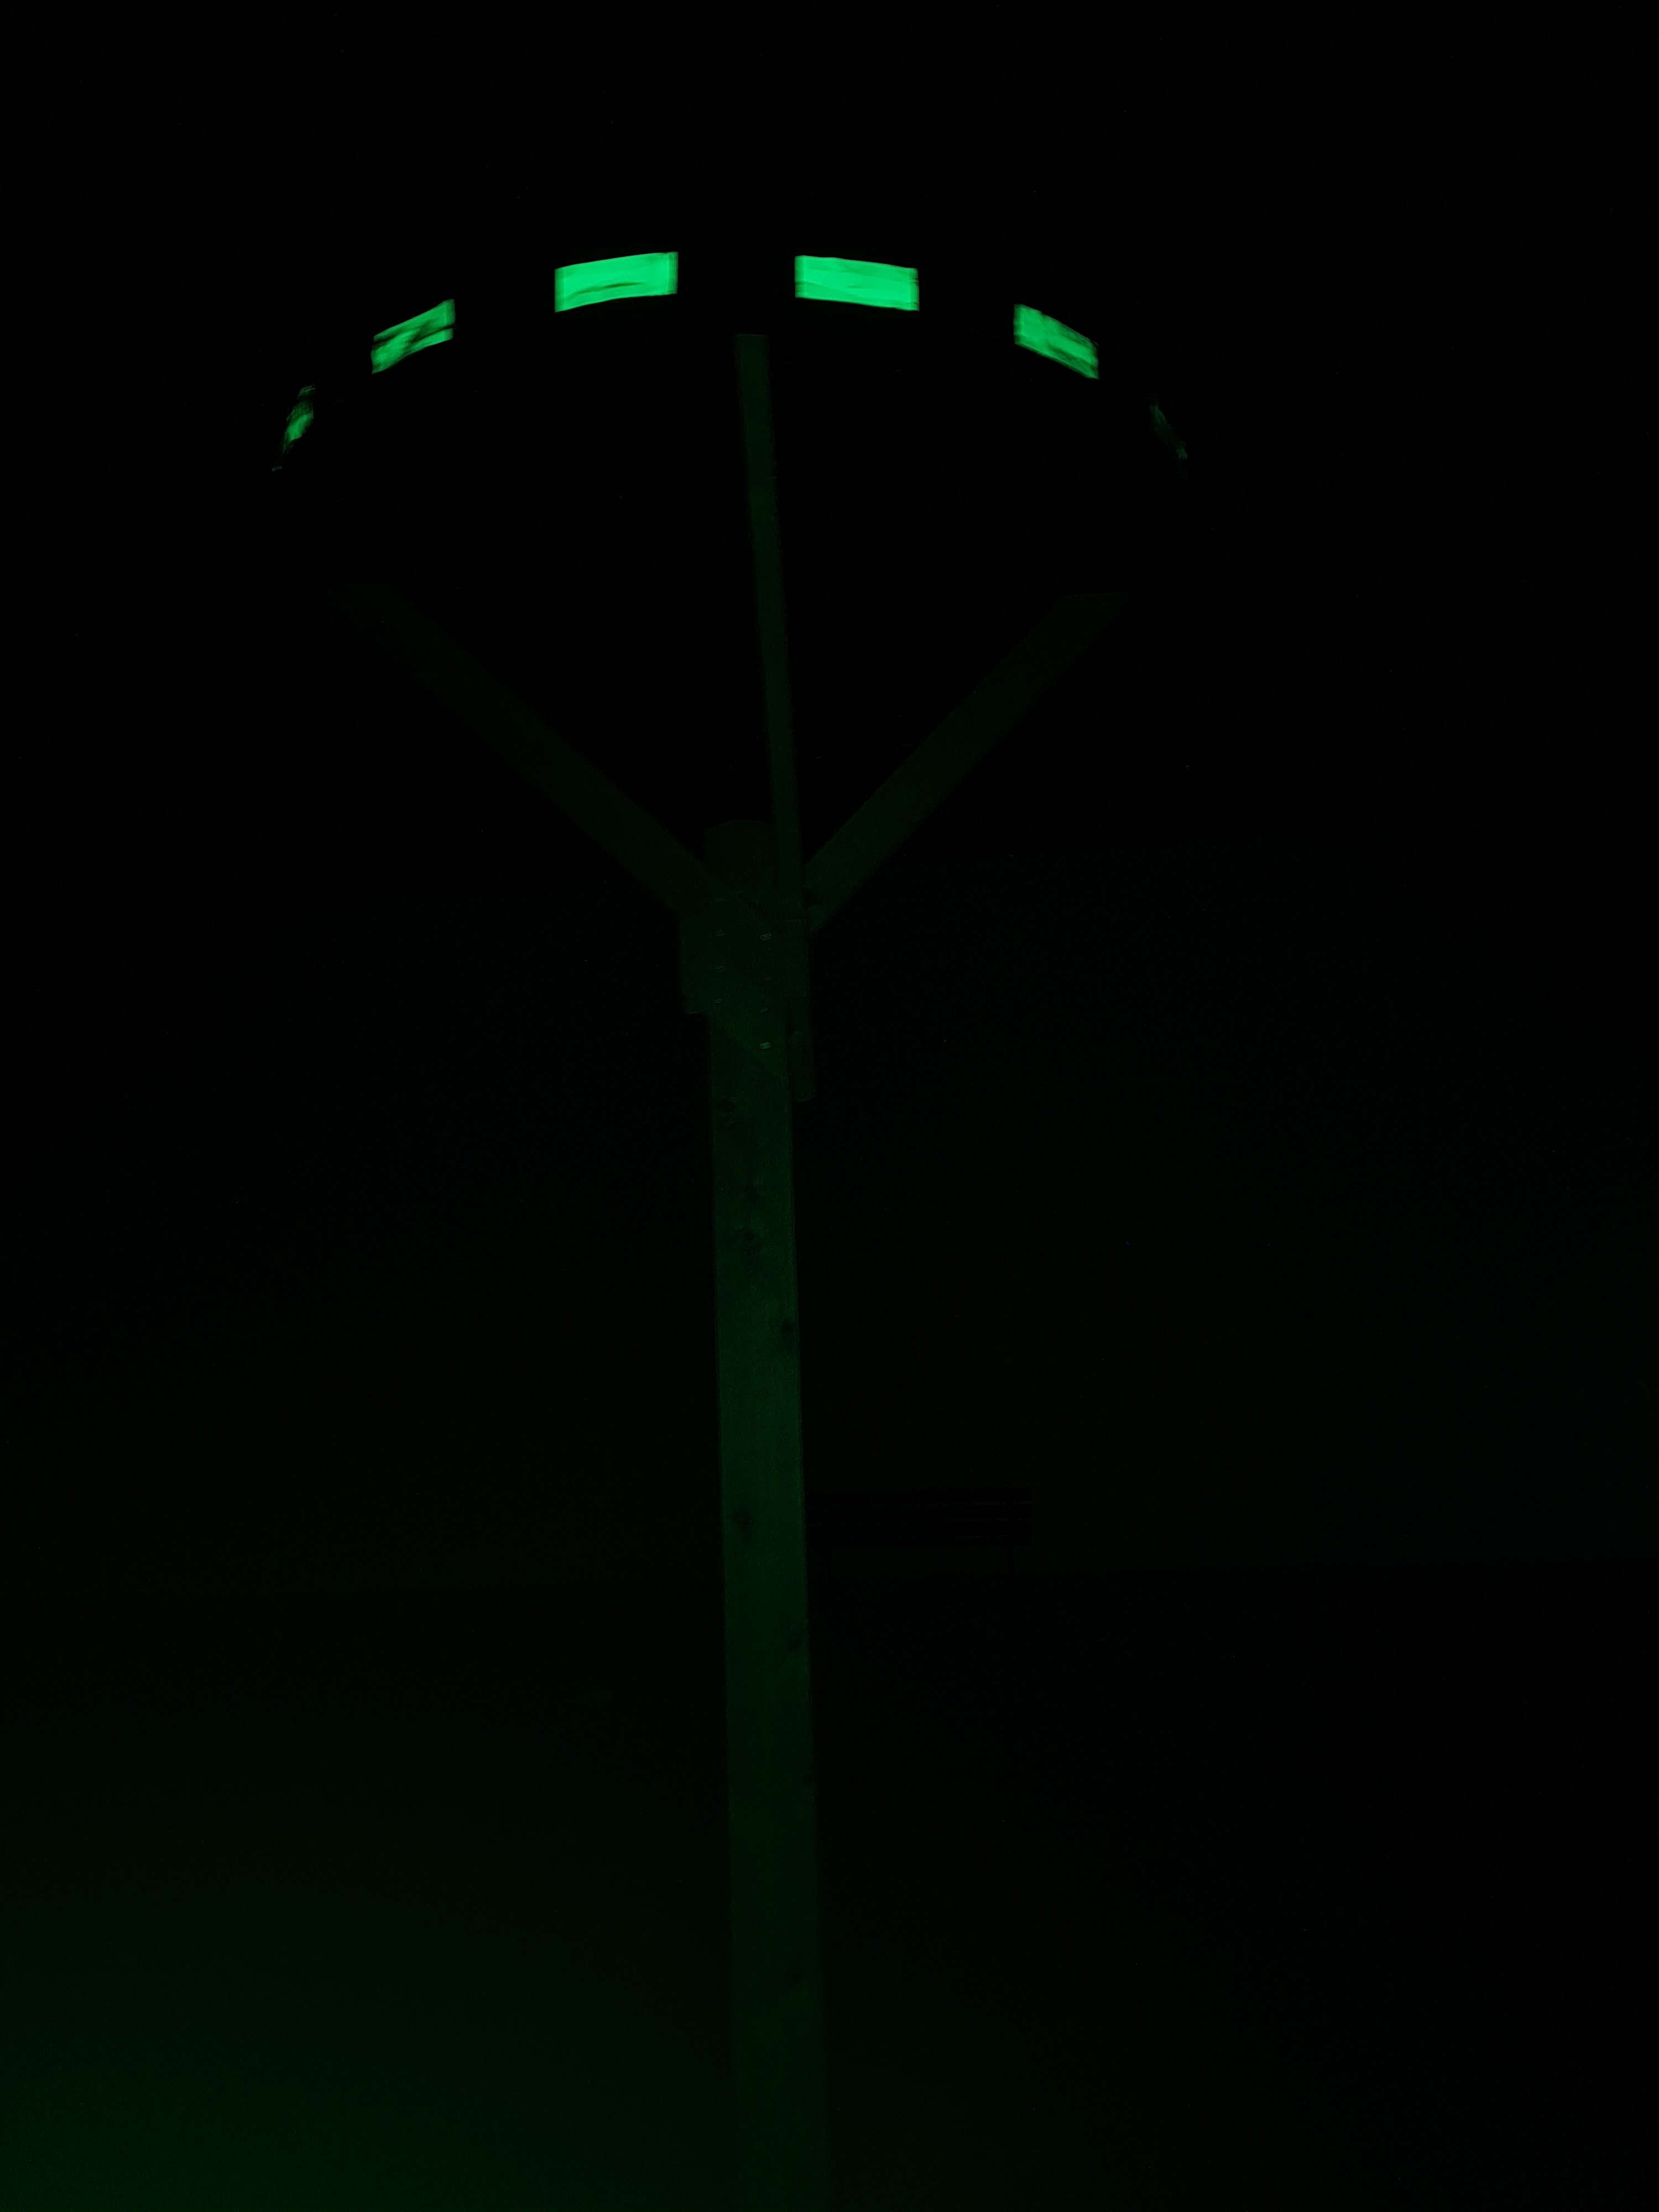hoop: (284, 251, 1100, 442)
